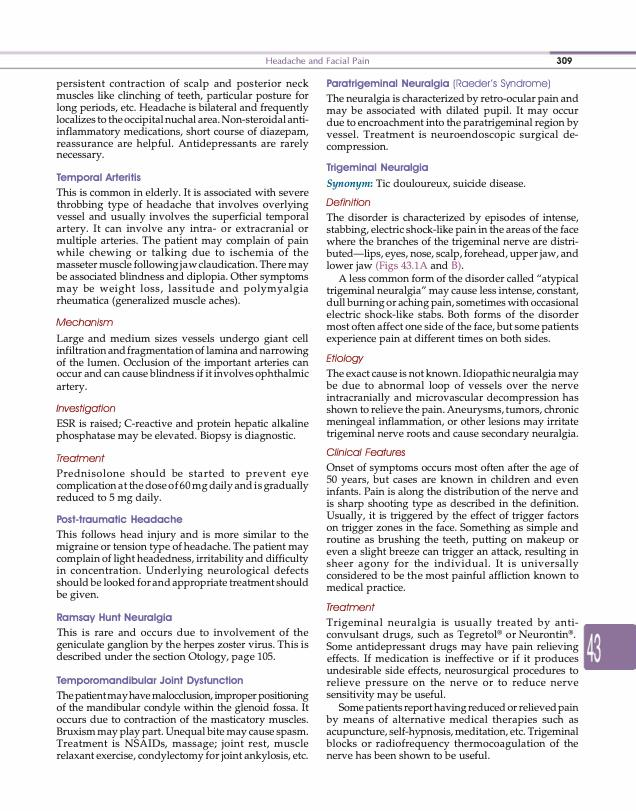header: (264, 56, 370, 65)
sub-section-heading: (326, 77, 551, 90), (55, 675, 244, 687), (56, 612, 173, 624), (325, 161, 429, 174), (55, 514, 184, 524), (55, 172, 143, 184), (326, 447, 407, 458), (55, 403, 117, 416), (55, 317, 114, 327), (326, 178, 373, 190), (325, 601, 376, 612), (55, 453, 106, 463), (325, 196, 371, 207), (325, 353, 365, 365)
text: (324, 616, 580, 761), (325, 211, 580, 346), (325, 462, 581, 595), (54, 186, 310, 309), (54, 77, 310, 162), (55, 528, 310, 603), (325, 368, 580, 441), (54, 690, 310, 762), (325, 92, 580, 154), (54, 333, 310, 394), (55, 626, 310, 665), (55, 467, 310, 505), (55, 417, 310, 443), (375, 178, 527, 190)
